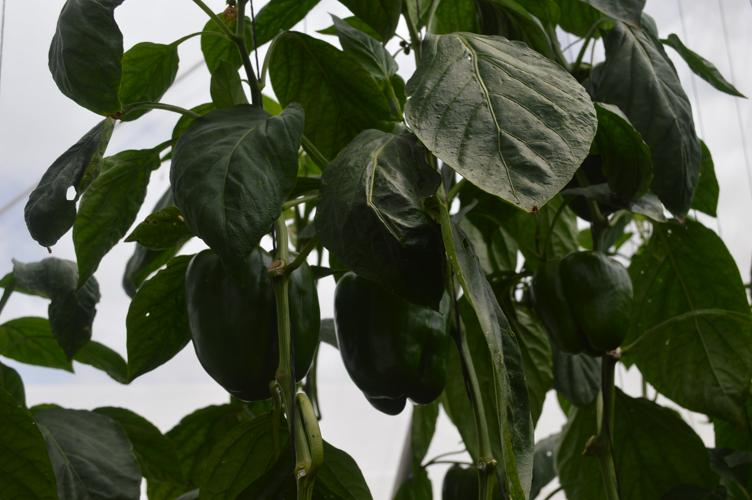BellPepper: (181, 245, 327, 397), (326, 272, 453, 410), (523, 251, 636, 357)
